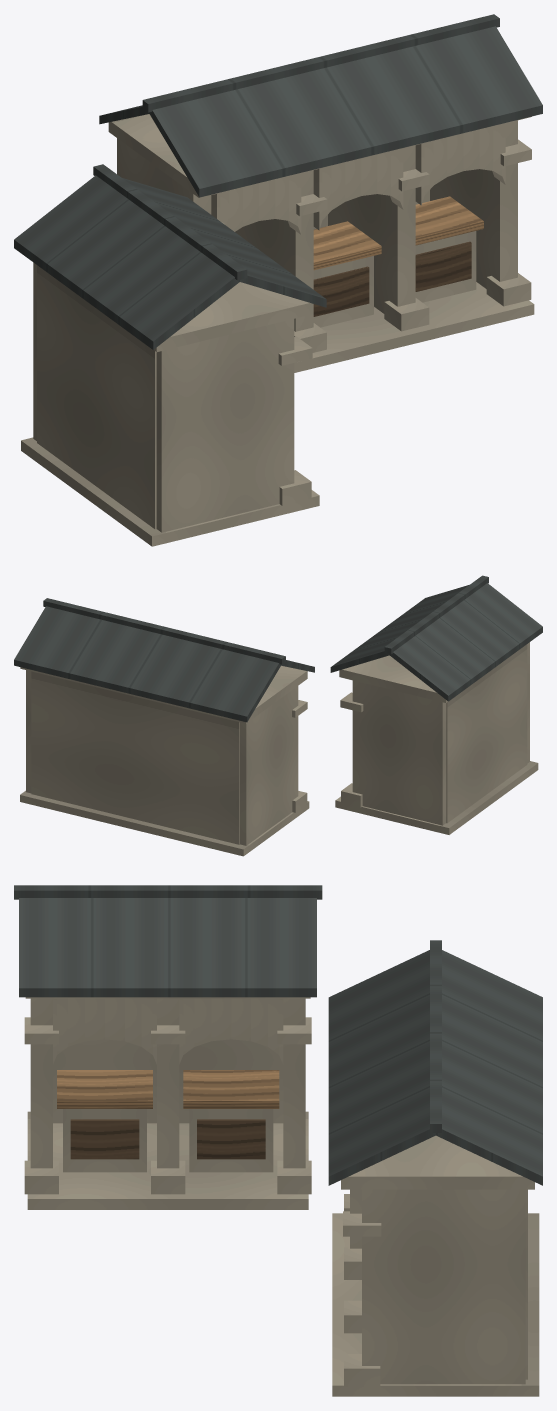
The model's file is juba.glb.
The picture shows the model from 3 angles, top to bottom: view 1: azimuth 30°, elevation 25°; view 2: azimuth 150°, elevation 25°; view 3: azimuth 270°, elevation 25°; orthographic projection. The views are drawn at different scales.
Parts seen in each view (by area): view 1: juba; view 2: juba; view 3: juba.
Part boxes in pixels (bbox=[...]): juba: bbox=[14, 14, 542, 546]; juba: bbox=[14, 575, 542, 856]; juba: bbox=[14, 885, 542, 1396].
Bounding box in the file's own units: 5.42 × 2.5 × 4.3.
1 material, 1 textured.
